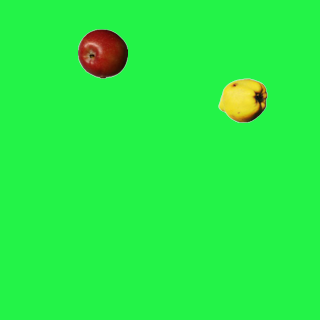Apple Braeburn: (77, 28, 127, 78)
Quince: (217, 75, 267, 125)
